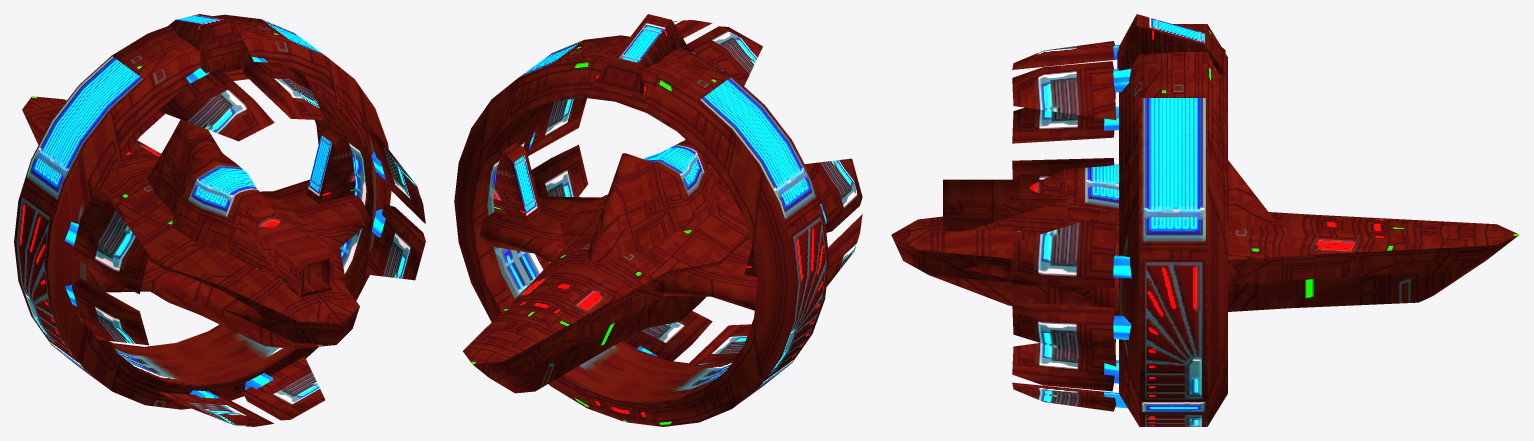
Rendered from Vul_Minta.fbx.
3 views of the same model, side by side, from view 1: azimuth 30°, elevation 25°; view 2: azimuth 150°, elevation 25°; view 3: azimuth 270°, elevation 25° (orthographic). The views are drawn at different scales.
Parts seen in each view (by area): view 1: Vul_Minta; view 2: Vul_Minta; view 3: Vul_Minta.
Part boxes in pixels (<box>): Vul_Minta: <box>14,14,425,426</box>; Vul_Minta: <box>454,14,862,426</box>; Vul_Minta: <box>891,14,1519,426</box>.
Bounding box in the file's own units: 122 × 130 × 190.
Materials: 1 (1 with a texture image).
